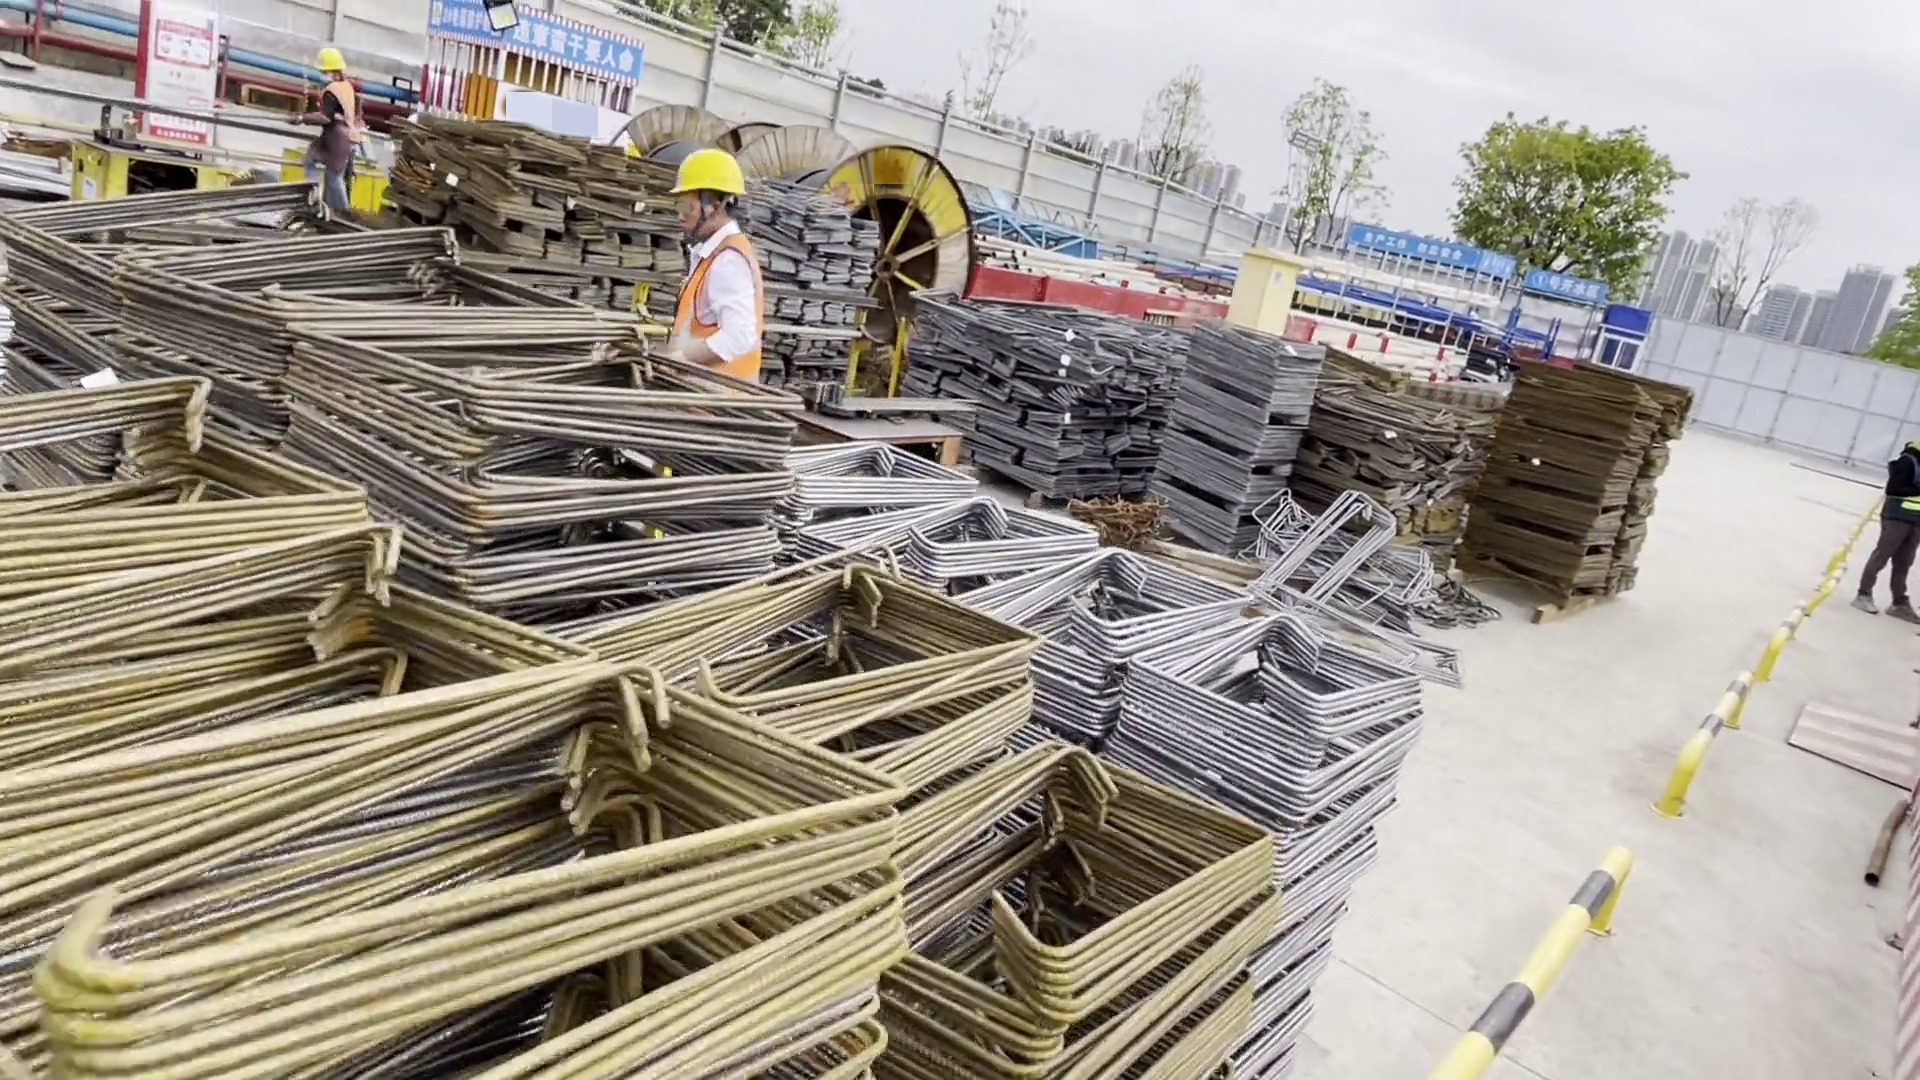cutter: (810, 386, 965, 461), (71, 135, 247, 199)
ebox: (1236, 250, 1292, 337)
fence: (970, 280, 1252, 336)
helmet: (671, 146, 750, 195), (312, 47, 346, 74)
person: (665, 149, 770, 392), (1853, 438, 1920, 630), (292, 45, 352, 218)
slogan: (429, 4, 643, 77), (1351, 227, 1519, 279)
vest: (674, 240, 761, 370), (326, 84, 361, 133)
